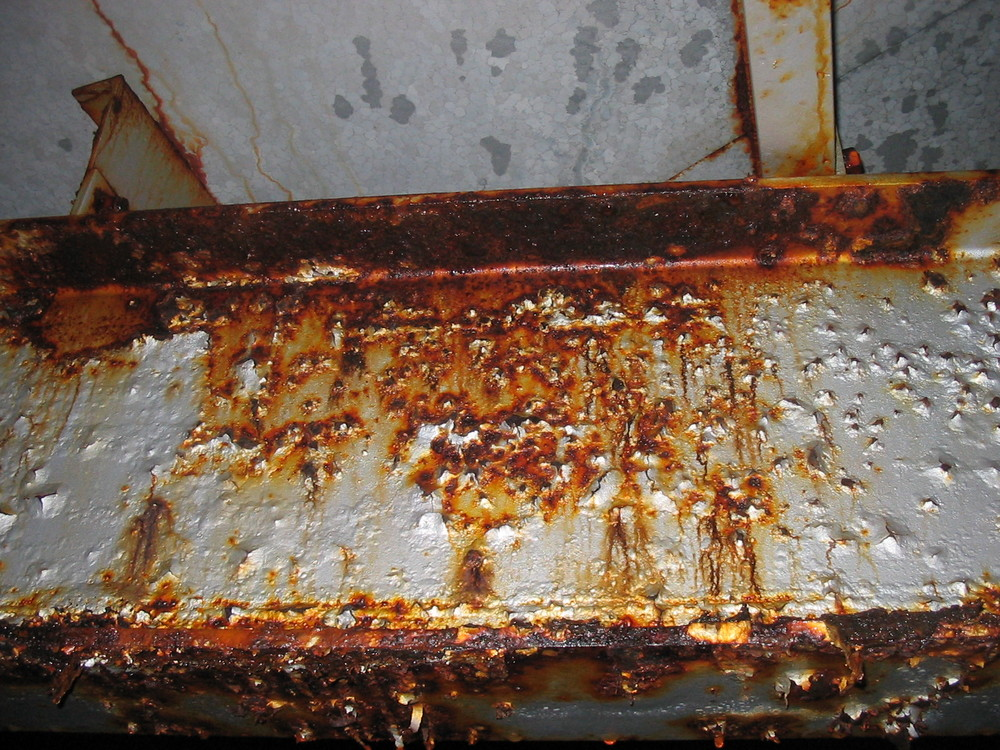rust: (230, 308, 671, 433), (56, 215, 690, 296), (715, 194, 952, 268)
